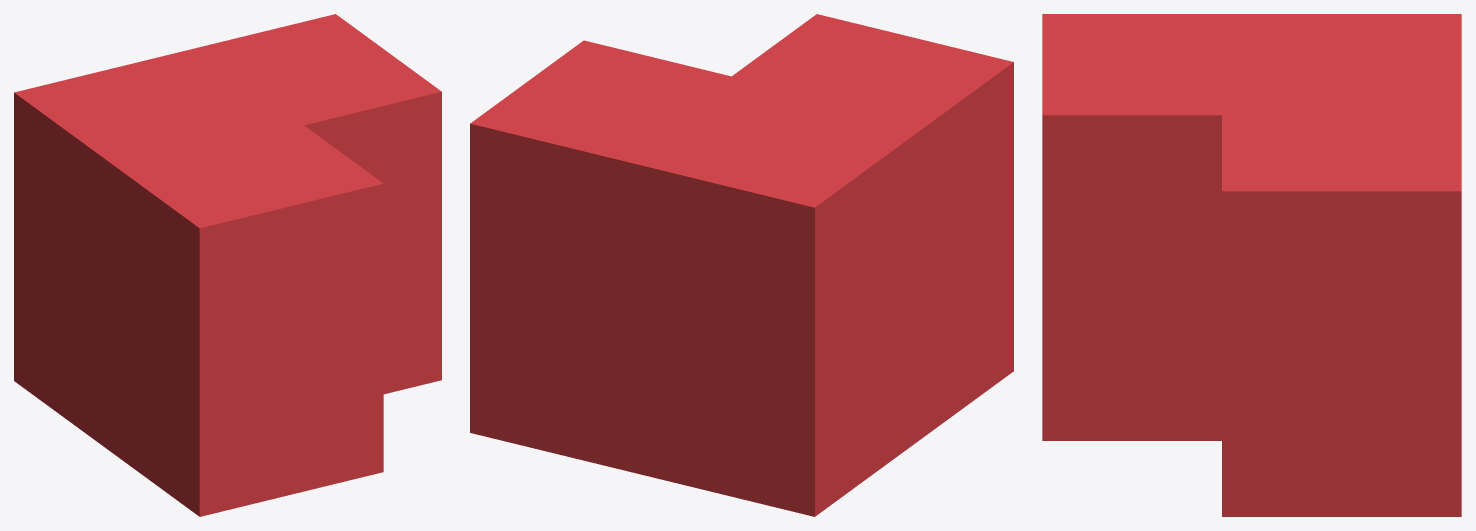
The model's file is corner.glb.
3 views of the same model, side by side, from view 1: azimuth 30°, elevation 25°; view 2: azimuth 150°, elevation 25°; view 3: azimuth 270°, elevation 25° (orthographic). The views are drawn at different scales.
Visible parts, largest first — view 1: Cube; view 2: Cube; view 3: Cube.
Boxes of the visible parts, left/top/right/bottom form: Cube: left=14, top=14, right=441, bottom=516; Cube: left=470, top=14, right=1013, bottom=516; Cube: left=1042, top=14, right=1461, bottom=516.
Size of the model in its own units: 0.7 by 0.6 by 0.7.
